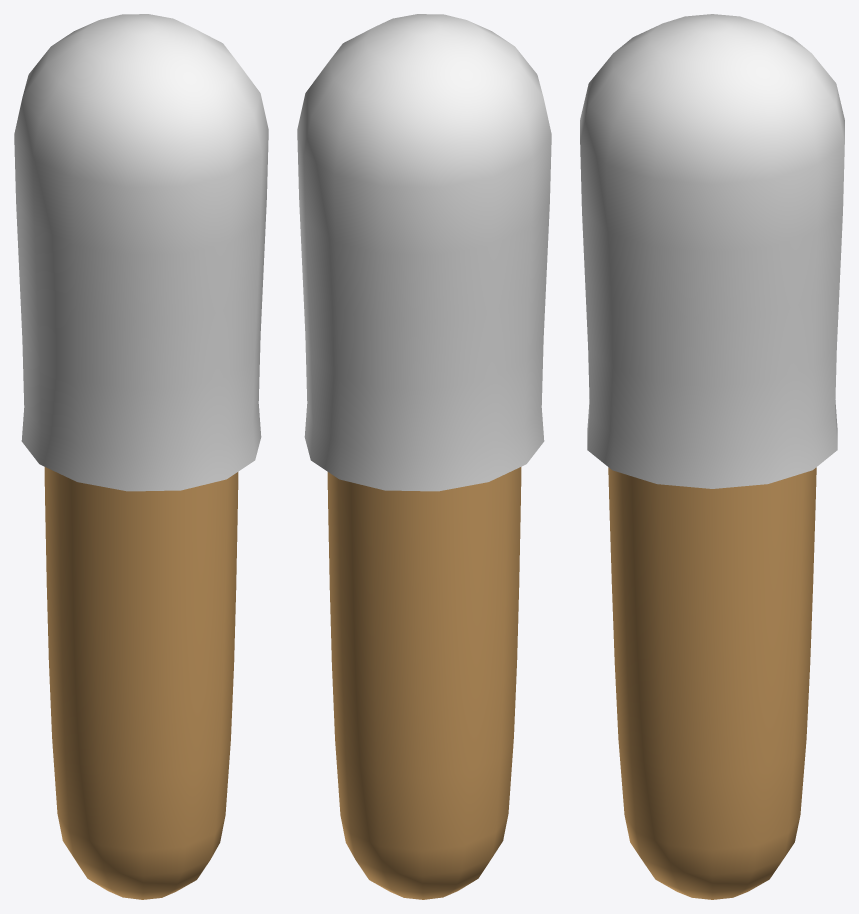
File: npc_upper_arm_short.glb
3 renders of one model, left to right at view 1: azimuth 30°, elevation 25°; view 2: azimuth 150°, elevation 25°; view 3: azimuth 270°, elevation 25°, orthographic.
Parts seen in each view (by area): view 1: npc_upper_arm_short; view 2: npc_upper_arm_short; view 3: npc_upper_arm_short.
Boxes of the visible parts, bbox=[...] form: npc_upper_arm_short: bbox=[14, 14, 268, 899]; npc_upper_arm_short: bbox=[297, 14, 551, 899]; npc_upper_arm_short: bbox=[580, 14, 844, 899].
Bounding box in the file's own units: 0.1 × 0.3794 × 0.1053.
